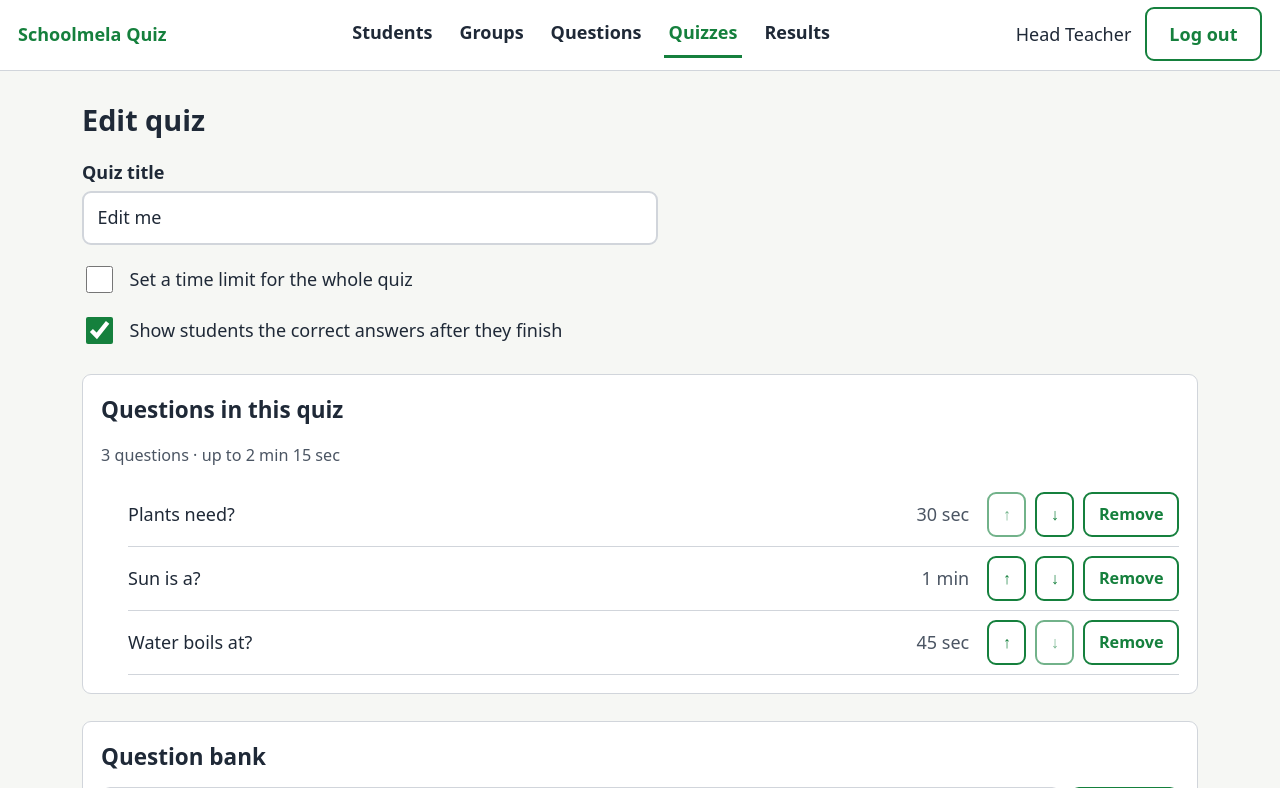
Test: quizzes › removes a question from the quiz before saving
Click the button with aria-label "Remove question 2" at (1131, 579), box [1083,556,1179,601]
(page scrolled)
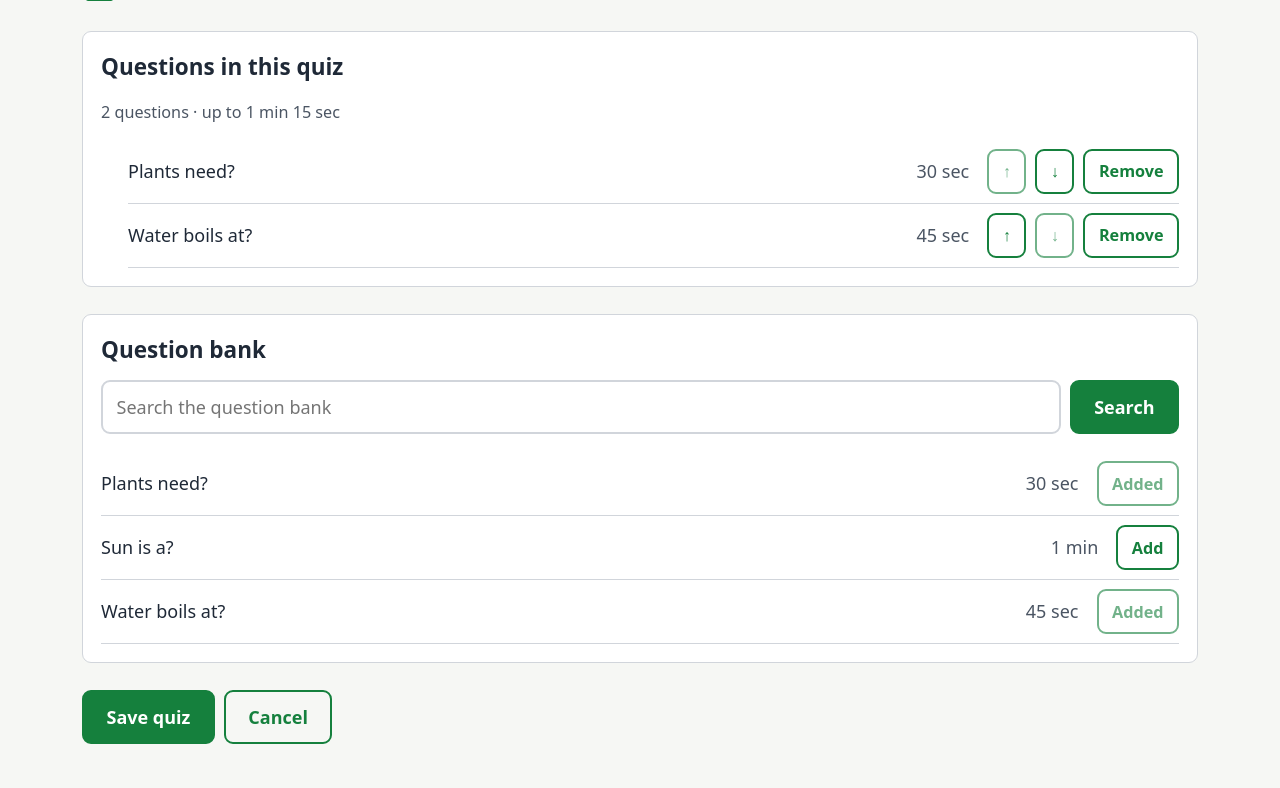
Click the button "Save quiz" at (148, 717), box [82,690,215,744]
(page scrolled)
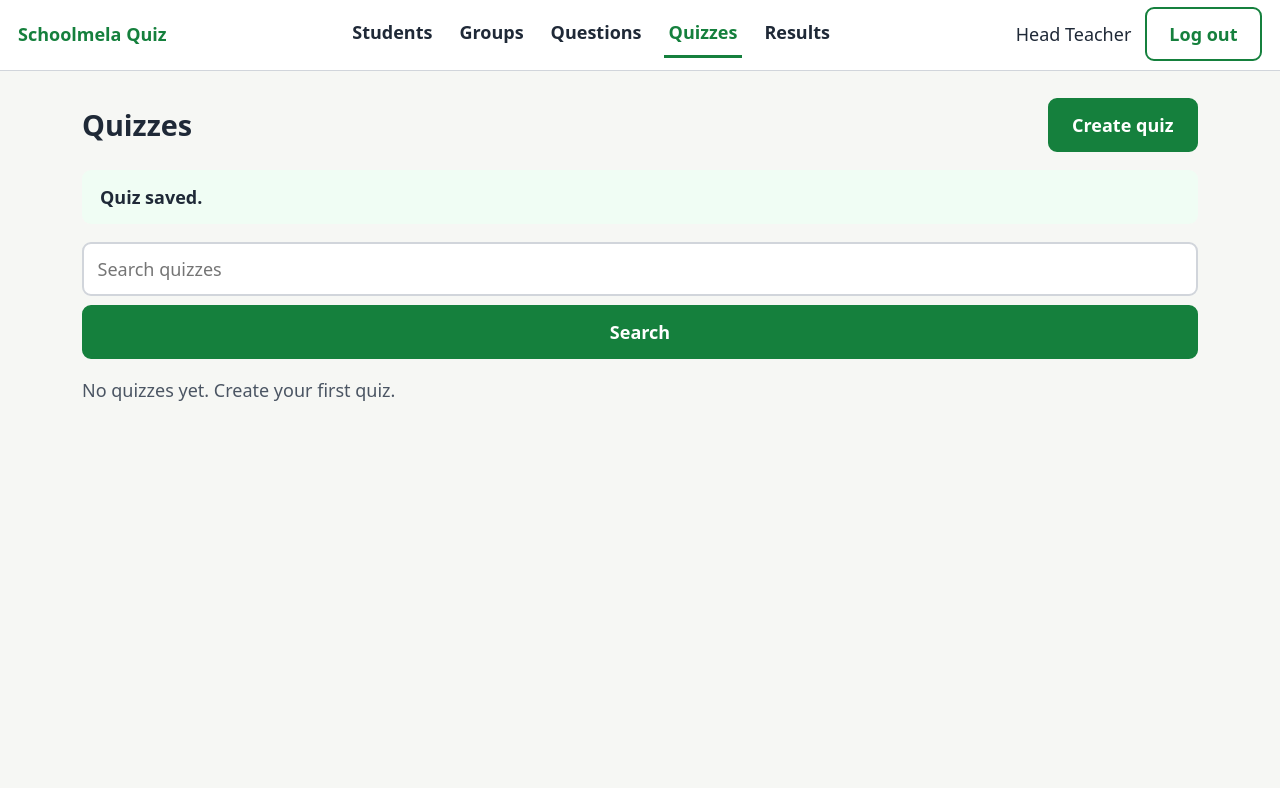
Expected: the message "Quiz saved." is shown, [82,170,1198,224]
